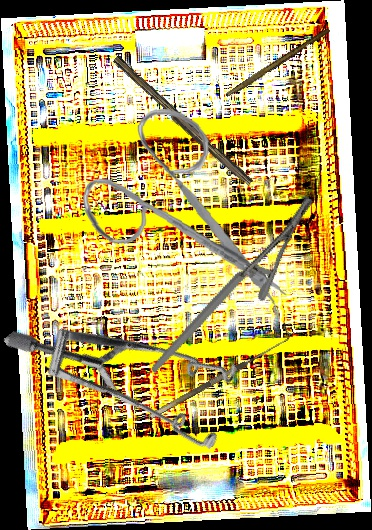Hook Surgical: (144, 328, 294, 420)
Iris Scissors: (76, 101, 303, 311)
Needle Holder: (112, 192, 352, 375)
Scalpel Handle: (108, 55, 256, 189), (225, 25, 331, 101)
Speculum: (2, 236, 267, 507)
